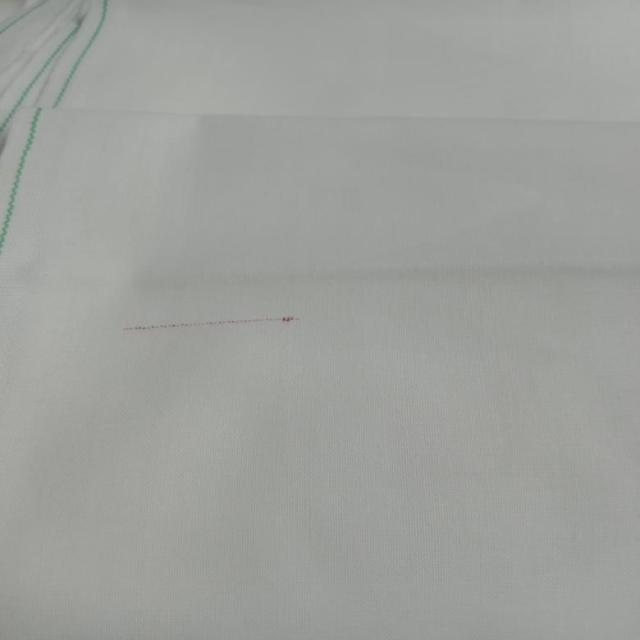contamination: (115, 308, 309, 339)
